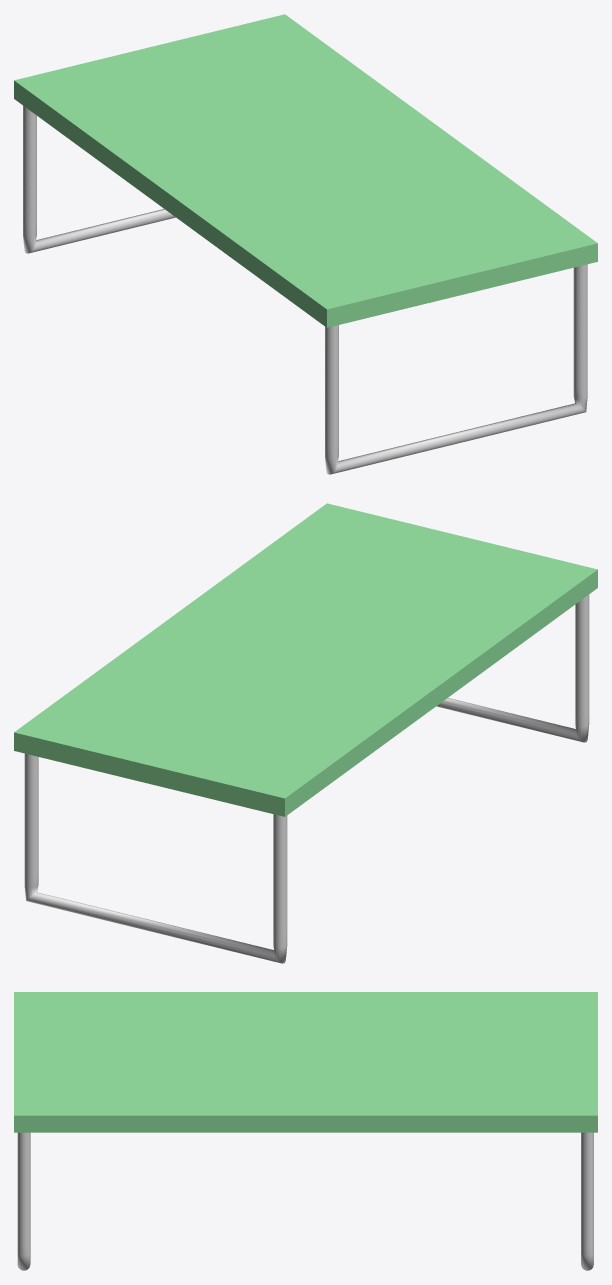
The model's file is table.glb.
3 renders of one model, top to bottom at view 1: azimuth 30°, elevation 25°; view 2: azimuth 150°, elevation 25°; view 3: azimuth 270°, elevation 25°, orthographic. The views are drawn at different scales.
Parts seen in each view (by area): view 1: 立方体.042; view 2: 立方体.042; view 3: 立方体.042.
Part boxes in pixels (x1,y1,x2,y2): 立方体.042: (14, 14, 597, 474); 立方体.042: (14, 503, 597, 963); 立方体.042: (14, 992, 597, 1270).
Size of the model in its own units: 0.5 by 0.3 by 1.
